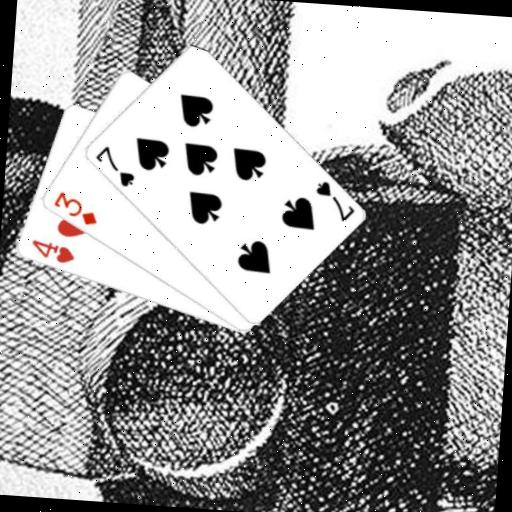3D: (49, 188, 101, 228)
4H: (27, 236, 77, 266)
7S: (90, 142, 138, 189), (310, 178, 358, 225)
